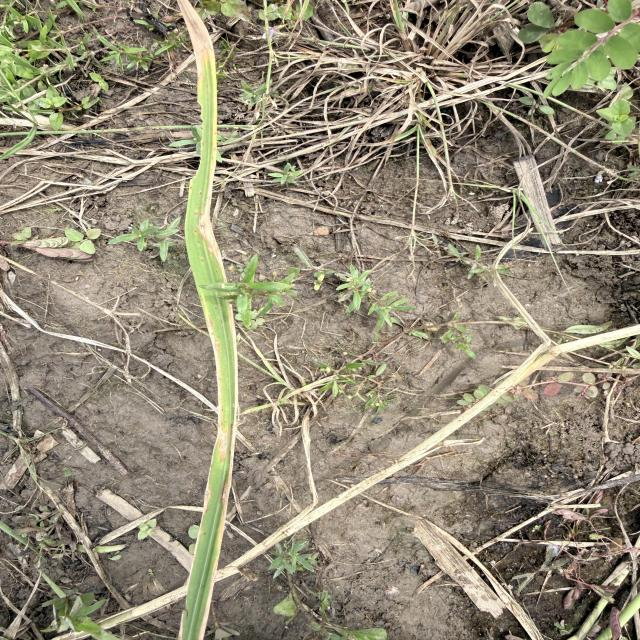Chay bia la: (196, 134, 230, 348), (183, 1, 218, 78)
